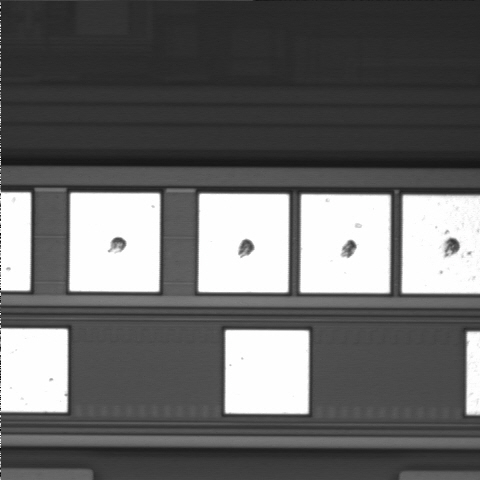pad: (70, 193, 160, 292), (300, 194, 390, 293), (199, 194, 289, 292), (225, 330, 309, 414)
